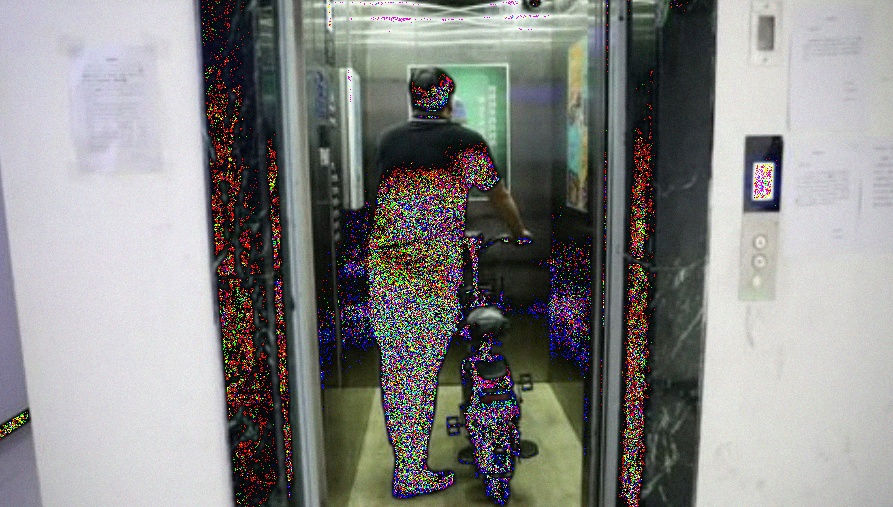ebike: (442, 231, 534, 505)
person: (362, 50, 532, 506)
